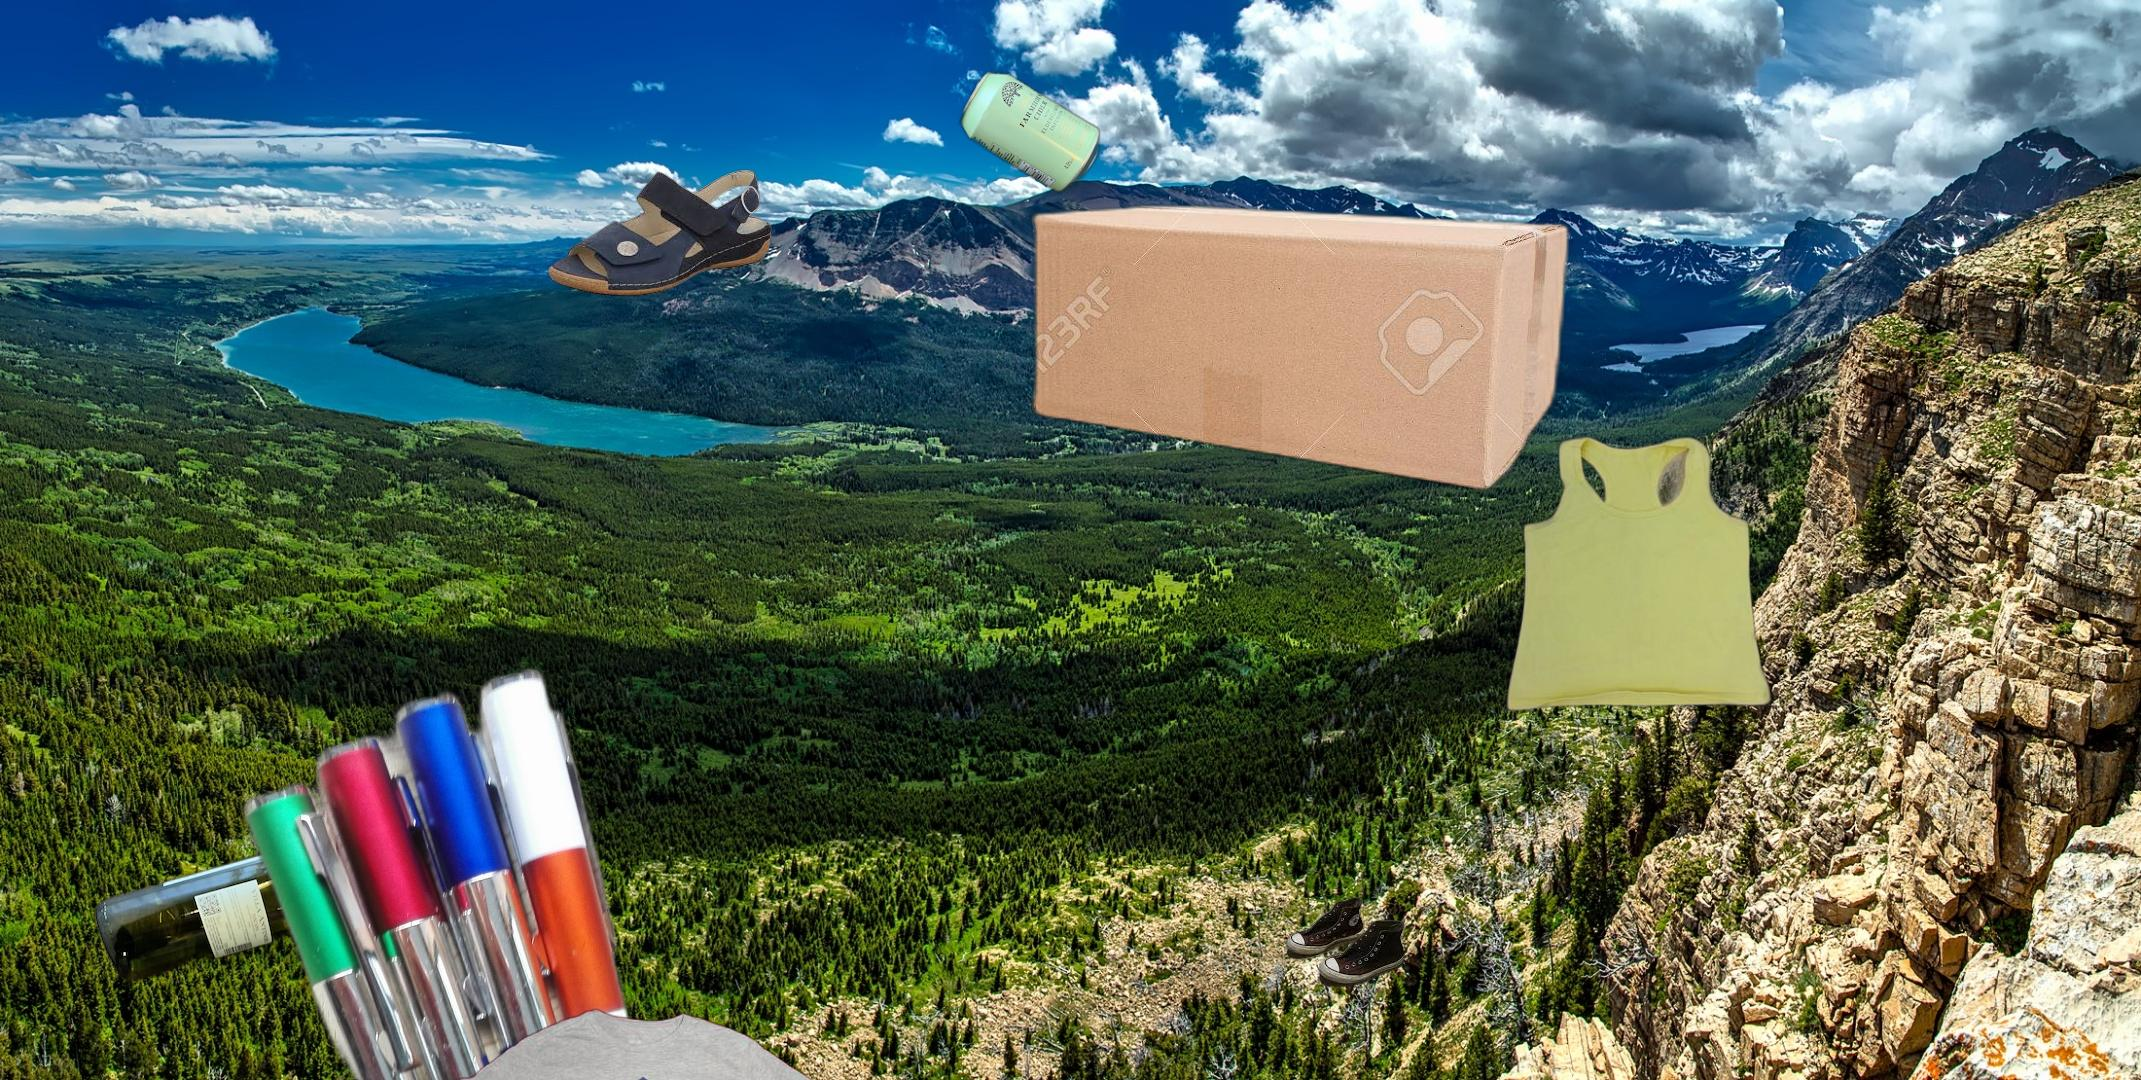clothes: (1504, 433, 1773, 716), (447, 1004, 834, 1080)
glass: (89, 833, 431, 986)
metal-cans: (956, 65, 1106, 198)
penholder: (234, 660, 735, 1080)
shoes: (547, 167, 772, 299), (1283, 864, 1409, 990)
trashbox-cardboard: (1019, 197, 1581, 497)
